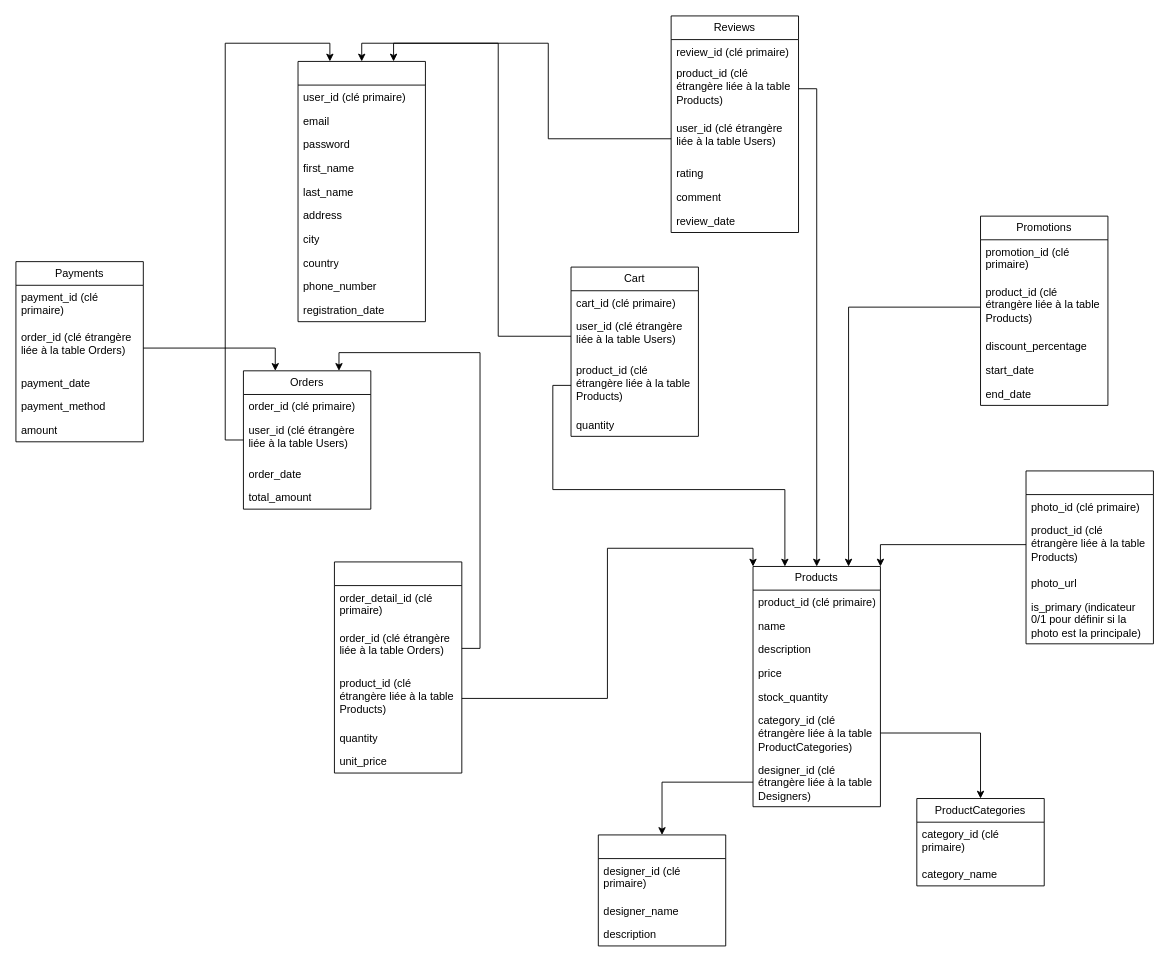
Image size: 1169x965. Some labels were removed from this diagram. Here are the shapes that lost their labels. From the top down, the box of each, then its label:
(297, 61, 425, 322): Users
(1025, 470, 1153, 644): ProductPhotos
(334, 561, 462, 773): OrderDetails
(597, 834, 726, 946): Designers
